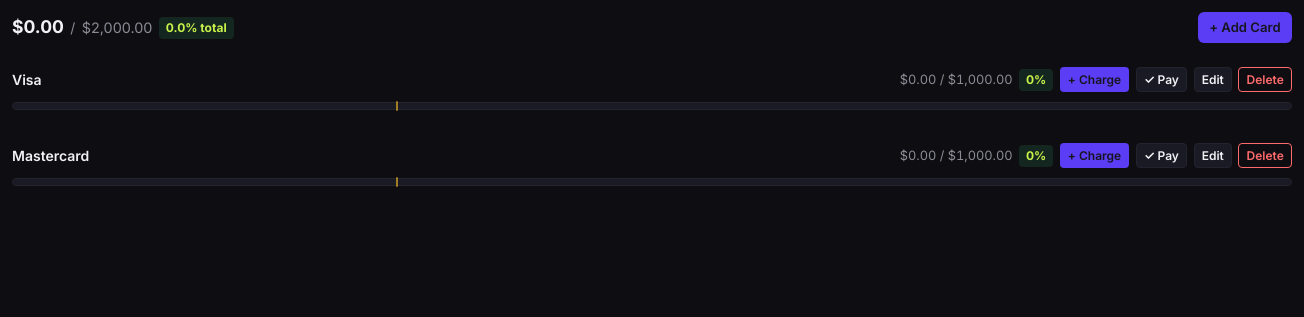
CreditCards — RS-13 inline charge/pay › clicking "+ Charge" reveals inline form with --charge class
Click the button "+ Charge" in the row of "Visa".
click(1095, 80)  # box [1060, 67, 1129, 92]
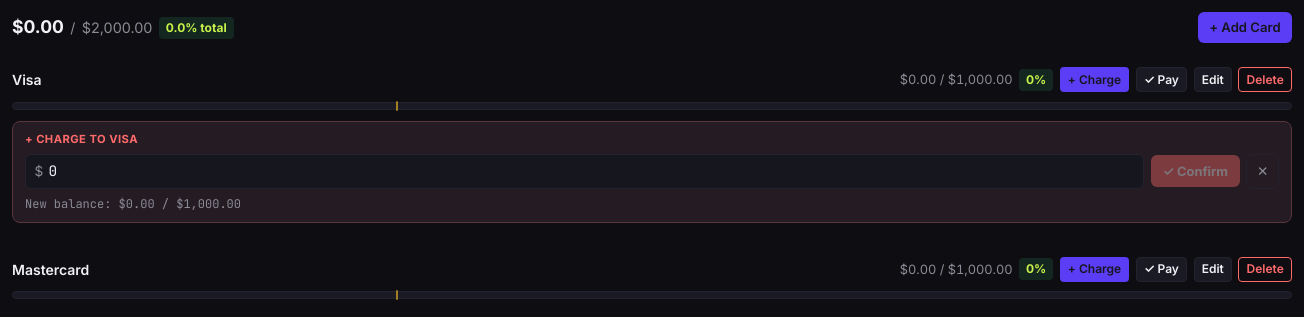
Expected: the element with class "cc-inline-form--charge" is shown, [12, 121, 1292, 223]
